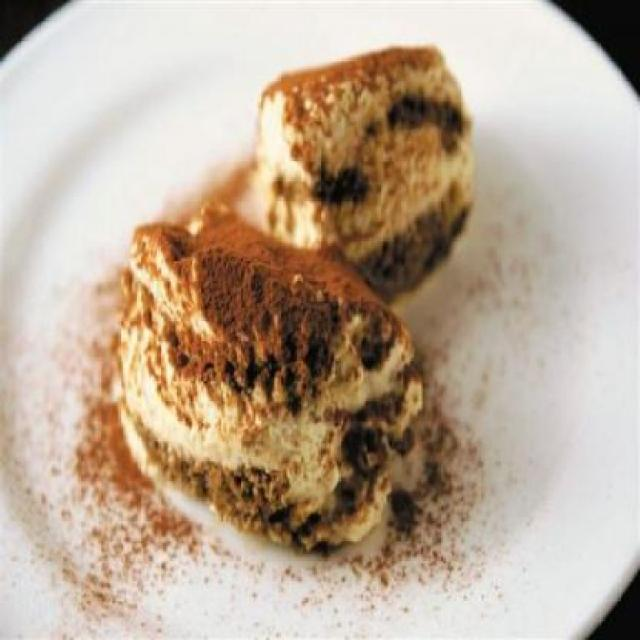Tiramisu: (80, 218, 420, 524), (195, 39, 500, 272)
